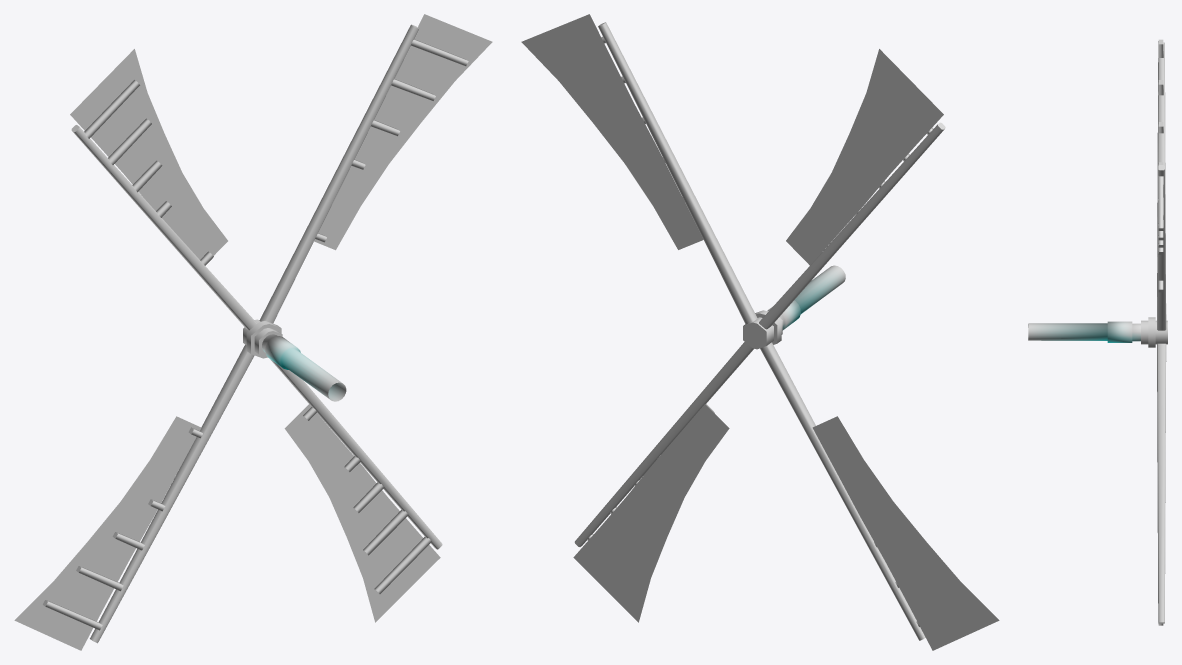
Rendered from SM_WindMill_Palms.FBX.
The picture shows the model from 3 angles, left to right: view 1: azimuth 30°, elevation 25°; view 2: azimuth 150°, elevation 25°; view 3: azimuth 270°, elevation 25°; orthographic projection. The views are drawn at different scales.
Parts seen in each view (by area): view 1: SM_WindMill_Palms_LOD0; view 2: SM_WindMill_Palms_LOD0; view 3: SM_WindMill_Palms_LOD0.
Boxes of the visible parts, x1,y1,x2,y2 form: SM_WindMill_Palms_LOD0: (14, 14, 492, 650); SM_WindMill_Palms_LOD0: (521, 14, 999, 650); SM_WindMill_Palms_LOD0: (1028, 39, 1167, 625).
Size of what is drawn, in the model's own units: 2247 by 669 by 2841.
